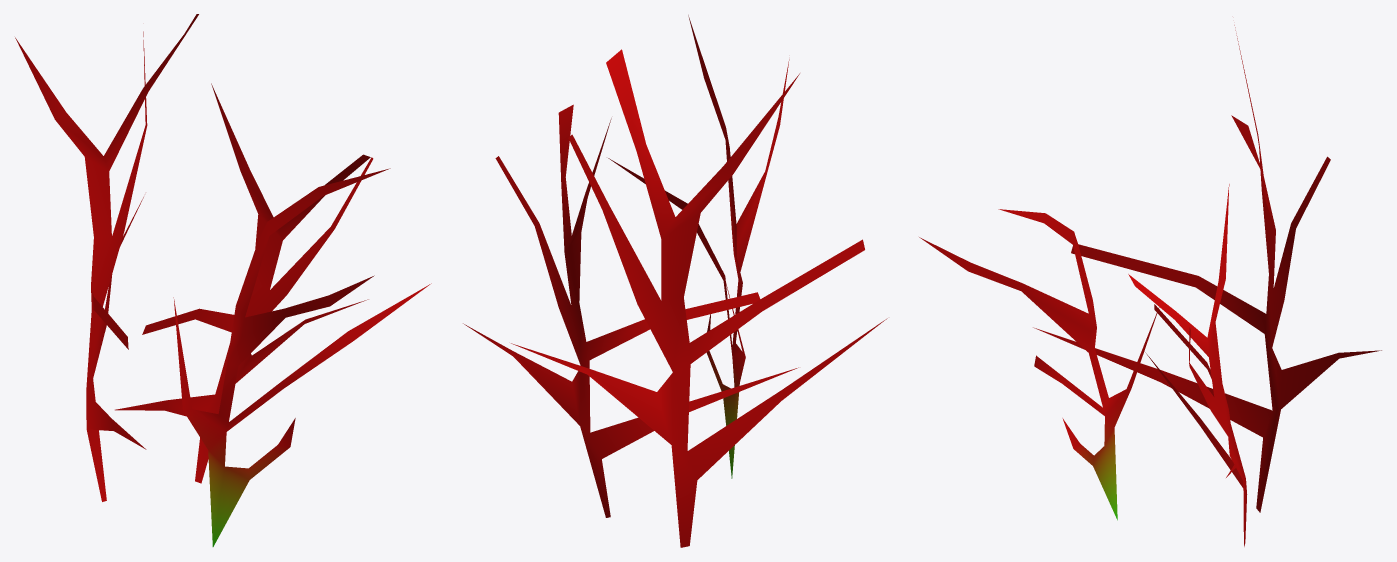
File: Kikuyu Grass_LOD4_Var15_wiljearqx.fbx
3 renders of one model, left to right at view 1: azimuth 30°, elevation 25°; view 2: azimuth 150°, elevation 25°; view 3: azimuth 270°, elevation 25°, orthographic. The views are drawn at different scales.
Visible parts, largest first — view 1: _g4d3_Var15_LOD4; view 2: _g4d3_Var15_LOD4; view 3: _g4d3_Var15_LOD4.
Boxes of the visible parts, x1,y1,x2,y2 form: _g4d3_Var15_LOD4: [15, 14, 431, 546]; _g4d3_Var15_LOD4: [463, 15, 887, 547]; _g4d3_Var15_LOD4: [919, 25, 1381, 546].
Bounding box in the file's own units: 15.18 × 20.7 × 19.29.
